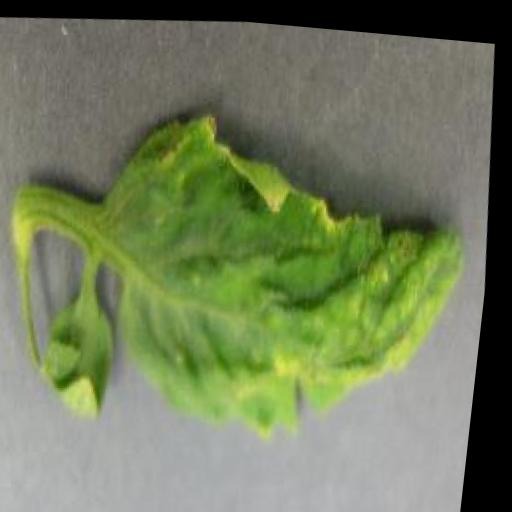Yellow Leaf Curl Virus: (81, 84, 495, 461)
